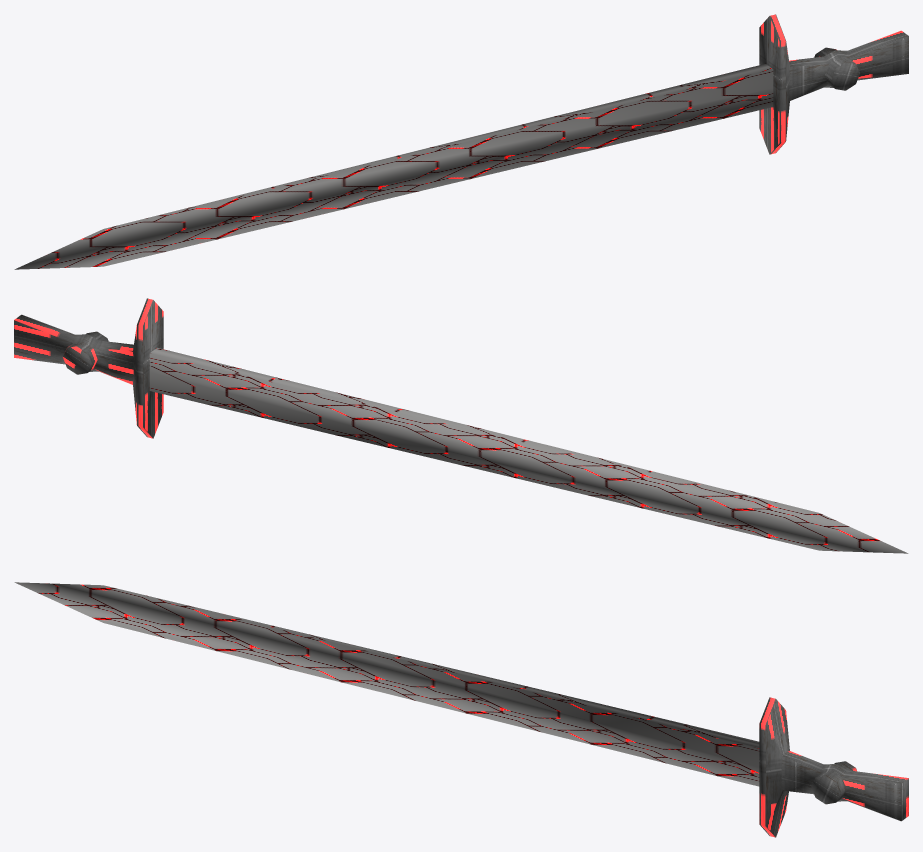
File: Sword.fbx
The picture shows the model from 3 angles, top to bottom: view 1: azimuth 30°, elevation 25°; view 2: azimuth 150°, elevation 25°; view 3: azimuth 330°, elevation 25°; orthographic projection.
Parts seen in each view (by area): view 1: Cube.115; view 2: Cube.115; view 3: Cube.115.
Boxes of the visible parts, <box> form: Cube.115: <box>14,14,908,269</box>; Cube.115: <box>14,298,908,553</box>; Cube.115: <box>14,582,908,837</box>.
Bounding box in the file's own units: 324 × 48.2 × 12.71.
